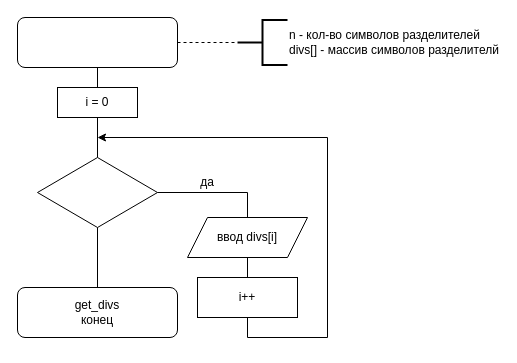
Some shapes in this 517 by 363 pixel diagram are drawn without their labels. Here are the shapes that lost their labels. From the top down, the centre of each, then its label:
At pixel 97 42: "get_divs(n, divs[]) начало".
At pixel 97 192: "i < n".
